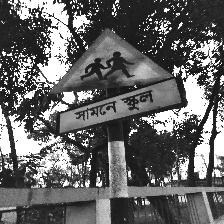School-in-front: (47, 27, 186, 136)
